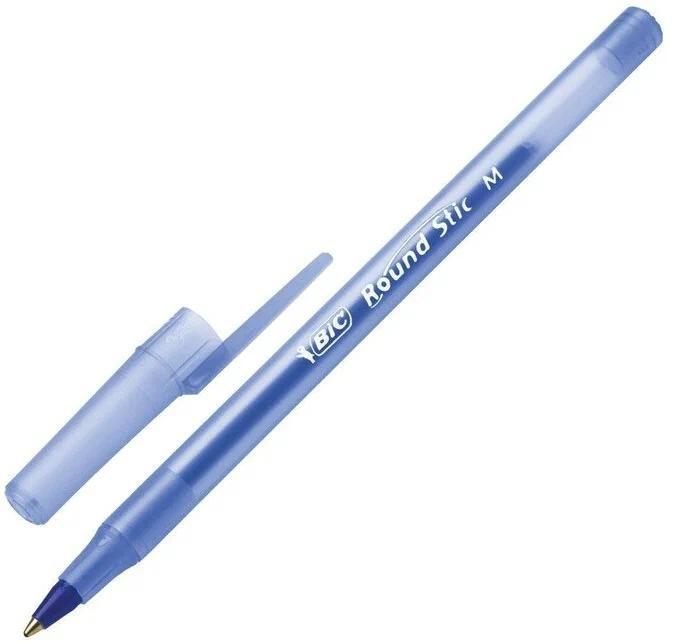pen-pencil: (34, 8, 662, 627)
